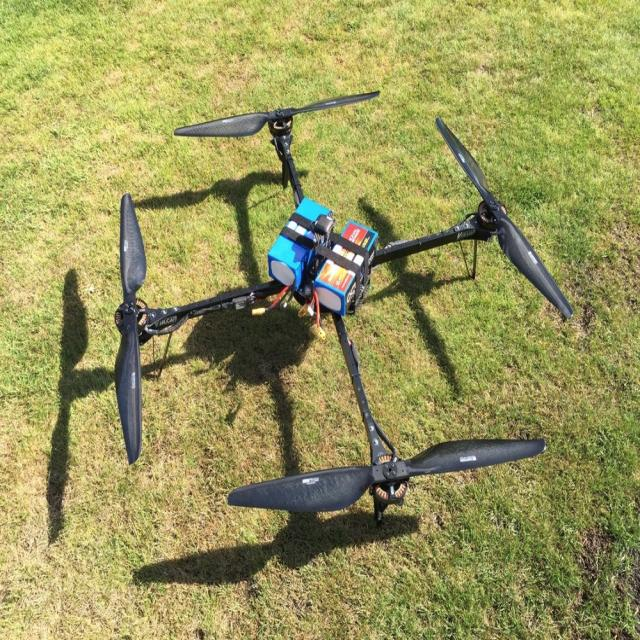drone: (79, 68, 584, 544)
